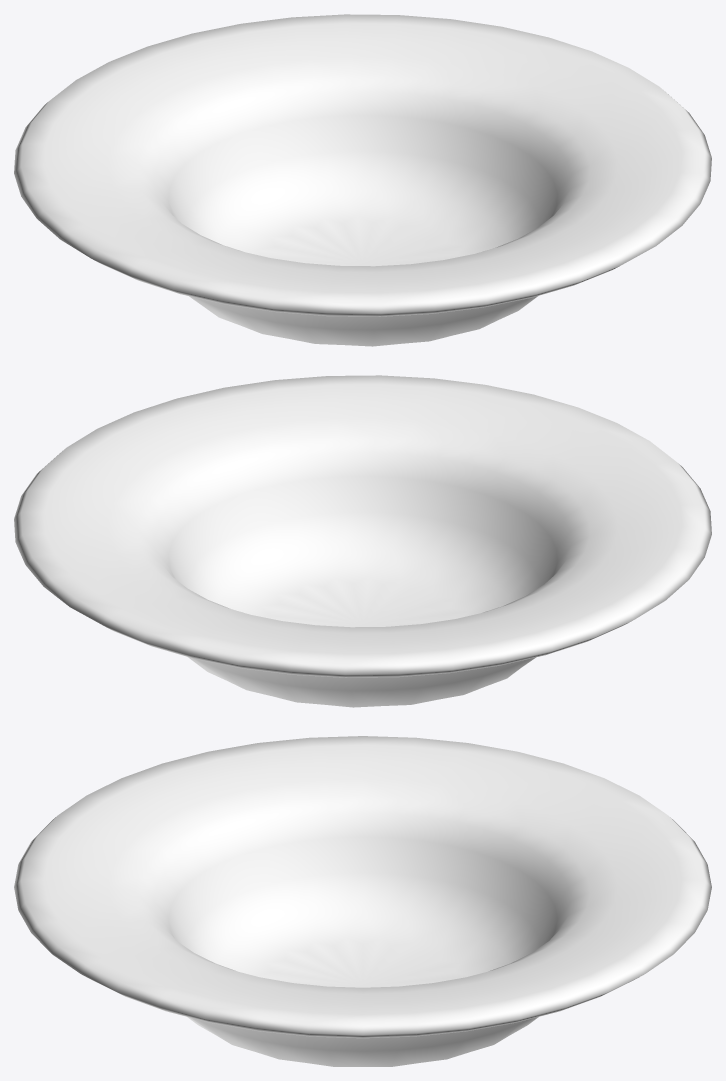
Rendered from PlatoHondo.fbx.
3 views of the same model, one above another, from view 1: azimuth 30°, elevation 25°; view 2: azimuth 150°, elevation 25°; view 3: azimuth 270°, elevation 25° (orthographic).
Parts seen in each view (by area): view 1: Plato_hondo; view 2: Plato_hondo; view 3: Plato_hondo.
Boxes of the visible parts, x1,y1,x2,y2 form: Plato_hondo: (14,14,711,346); Plato_hondo: (14,375,711,707); Plato_hondo: (14,736,711,1066).
Bounding box in the file's own units: 68.83 × 13.55 × 68.83.
Materials: 1 (1 with a texture image).
